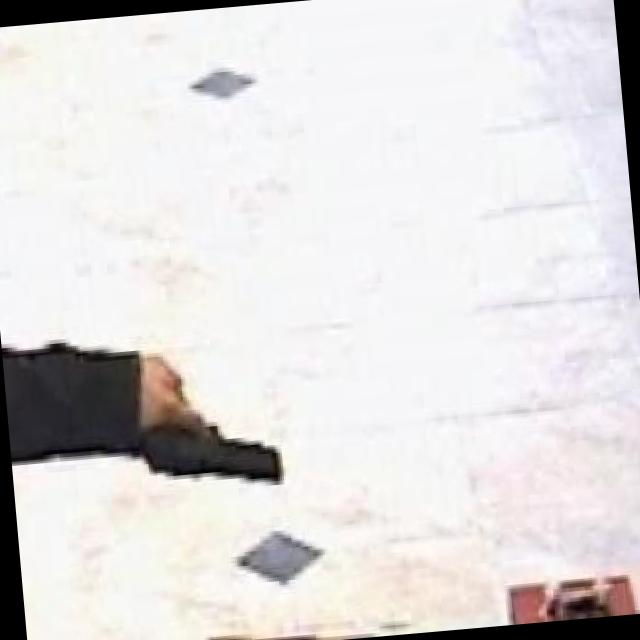Guns: (108, 406, 291, 504)
